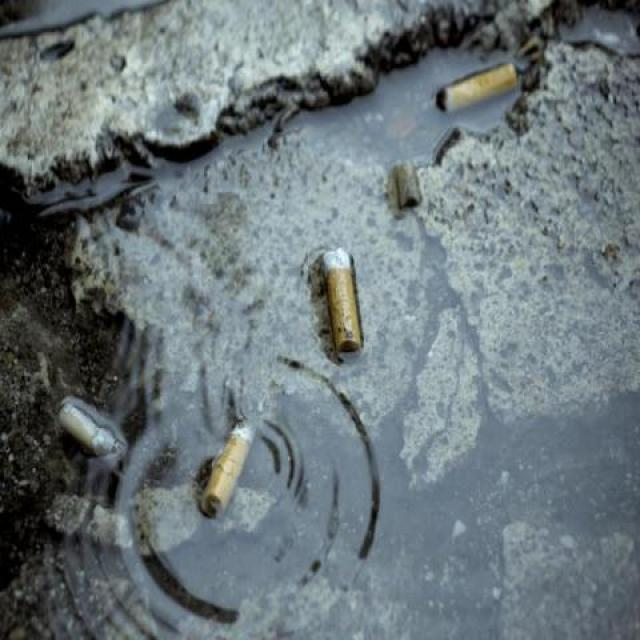non-organic waste: (196, 401, 261, 522), (317, 238, 371, 370), (433, 53, 528, 122), (392, 149, 424, 216)
